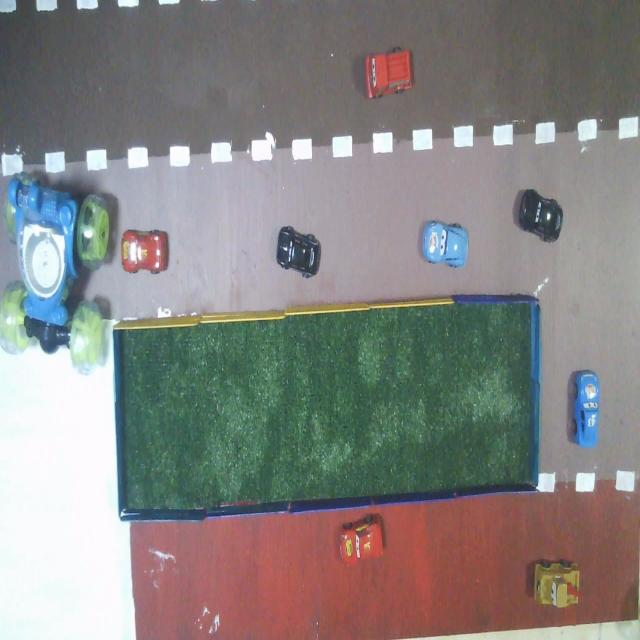driver car f: (0, 172, 110, 374)
small cars: (365, 48, 412, 98), (519, 190, 563, 241), (277, 226, 320, 277), (534, 560, 579, 607), (340, 514, 382, 564), (423, 222, 468, 267), (121, 230, 168, 273), (574, 370, 599, 447)
